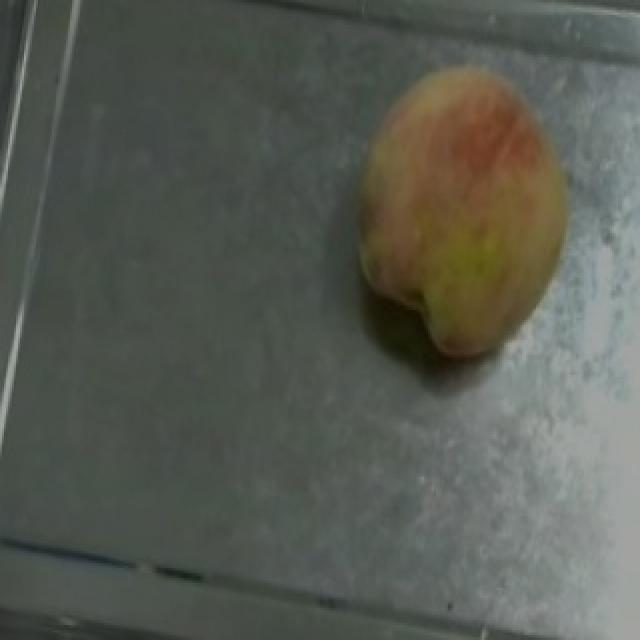Fruit: (324, 39, 592, 374)
